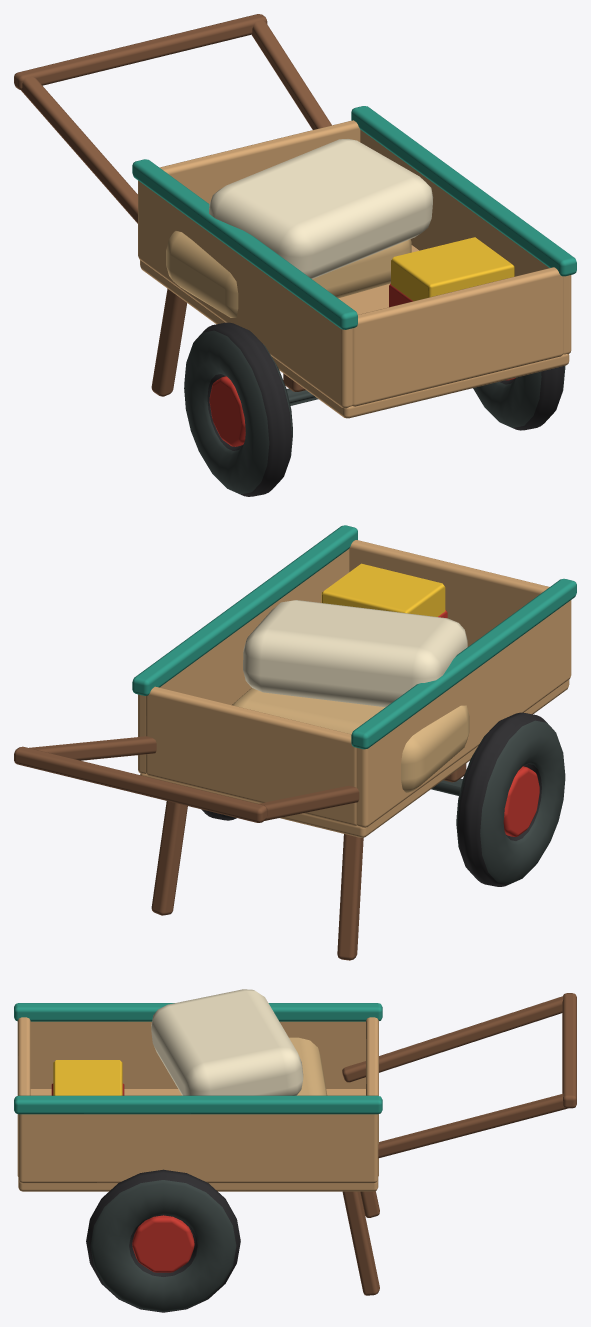
File: prop_kariton.glb
3 views of the same model, one above another, from view 1: azimuth 30°, elevation 25°; view 2: azimuth 150°, elevation 25°; view 3: azimuth 270°, elevation 25° (orthographic). The views are drawn at different scales.
Parts seen in each view (by area): view 1: prop_kariton; view 2: prop_kariton; view 3: prop_kariton.
Part boxes in pixels (bbox=[...]): prop_kariton: bbox=[14, 14, 576, 496]; prop_kariton: bbox=[14, 525, 576, 960]; prop_kariton: bbox=[14, 989, 576, 1312].
Bounding box in the file's own units: 1.07 × 0.856 × 1.94.
